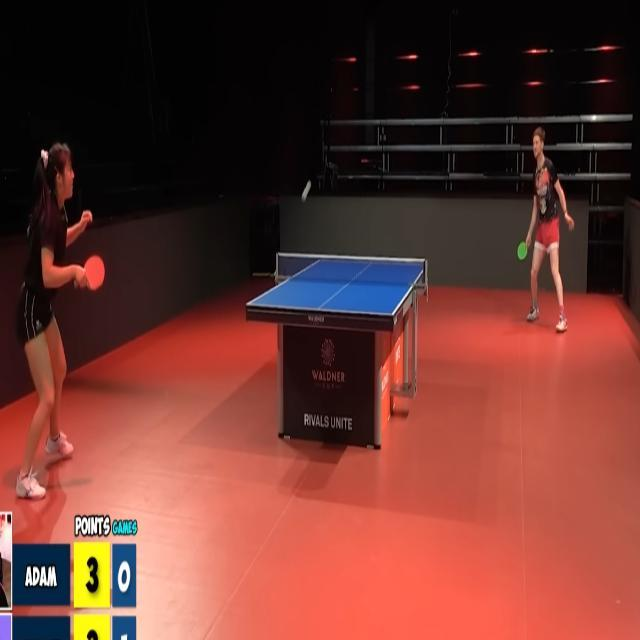TT Net: (275, 252, 429, 289)
TT Racket: (77, 248, 112, 297), (511, 237, 532, 264)
TT Table: (246, 259, 427, 314)
